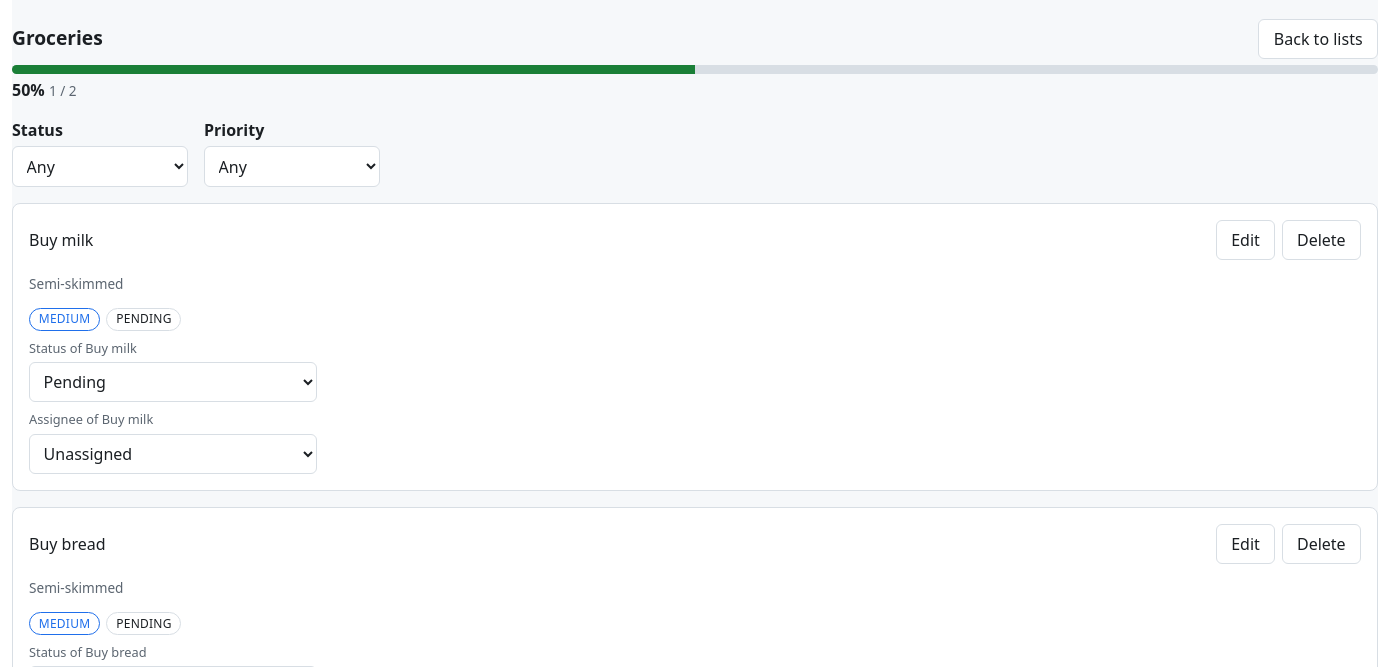
Test: deleting a task › asks first, deletes that id and re-reads the list
Click the button with aria-label "Delete Buy bread" at {"x": 1321, "y": 544}, box [1282,524,1361,564]
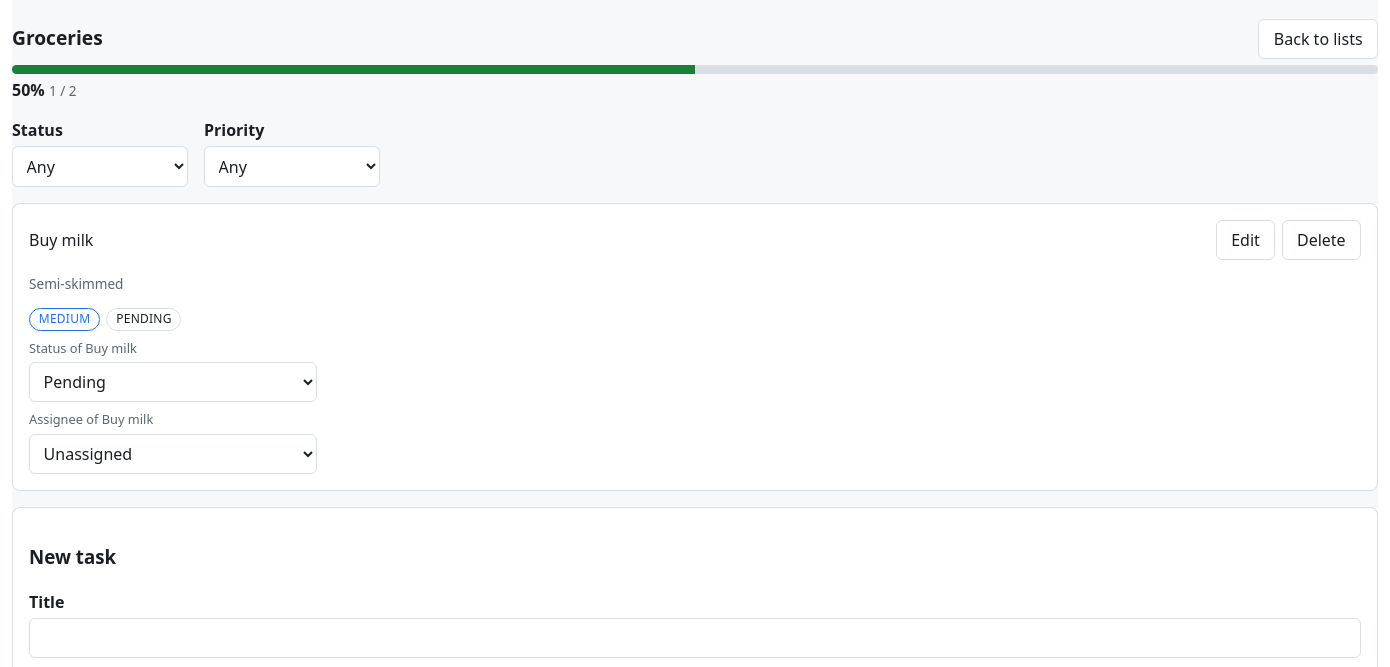
Now the text "Buy bread" is gone
